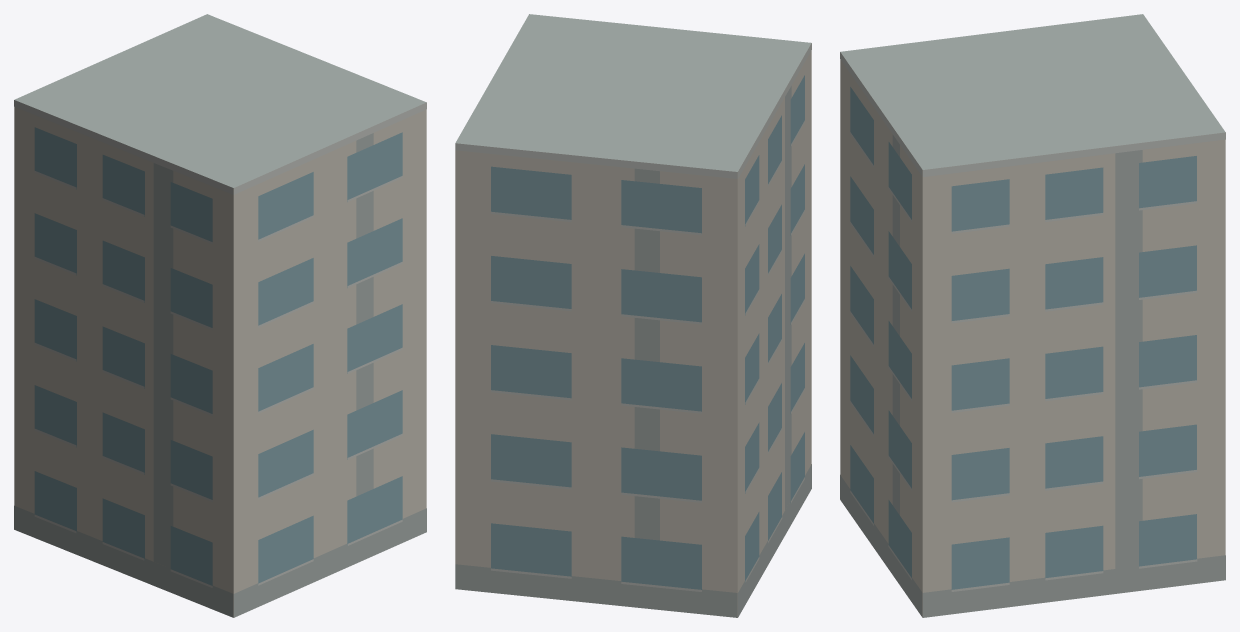
Rendered from residential-0e1b0f2a-5655-439f-9e6d-91a79b5c573b.glb.
3 views of the same model, side by side, from view 1: azimuth 30°, elevation 25°; view 2: azimuth 150°, elevation 25°; view 3: azimuth 270°, elevation 25° (orthographic). The views are drawn at different scales.
Parts seen in each view (by area): view 1: residential-0e1b0f2a-5655-439f-9e6d-91a79b5c573b.tmp; view 2: residential-0e1b0f2a-5655-439f-9e6d-91a79b5c573b.tmp; view 3: residential-0e1b0f2a-5655-439f-9e6d-91a79b5c573b.tmp.
Boxes of the visible parts, x1,y1,x2,y2 form: residential-0e1b0f2a-5655-439f-9e6d-91a79b5c573b.tmp: [14, 14, 426, 617]; residential-0e1b0f2a-5655-439f-9e6d-91a79b5c573b.tmp: [455, 14, 811, 617]; residential-0e1b0f2a-5655-439f-9e6d-91a79b5c573b.tmp: [840, 14, 1225, 617].
Size of the model in its own units: 11.41 by 15.25 by 11.91.
